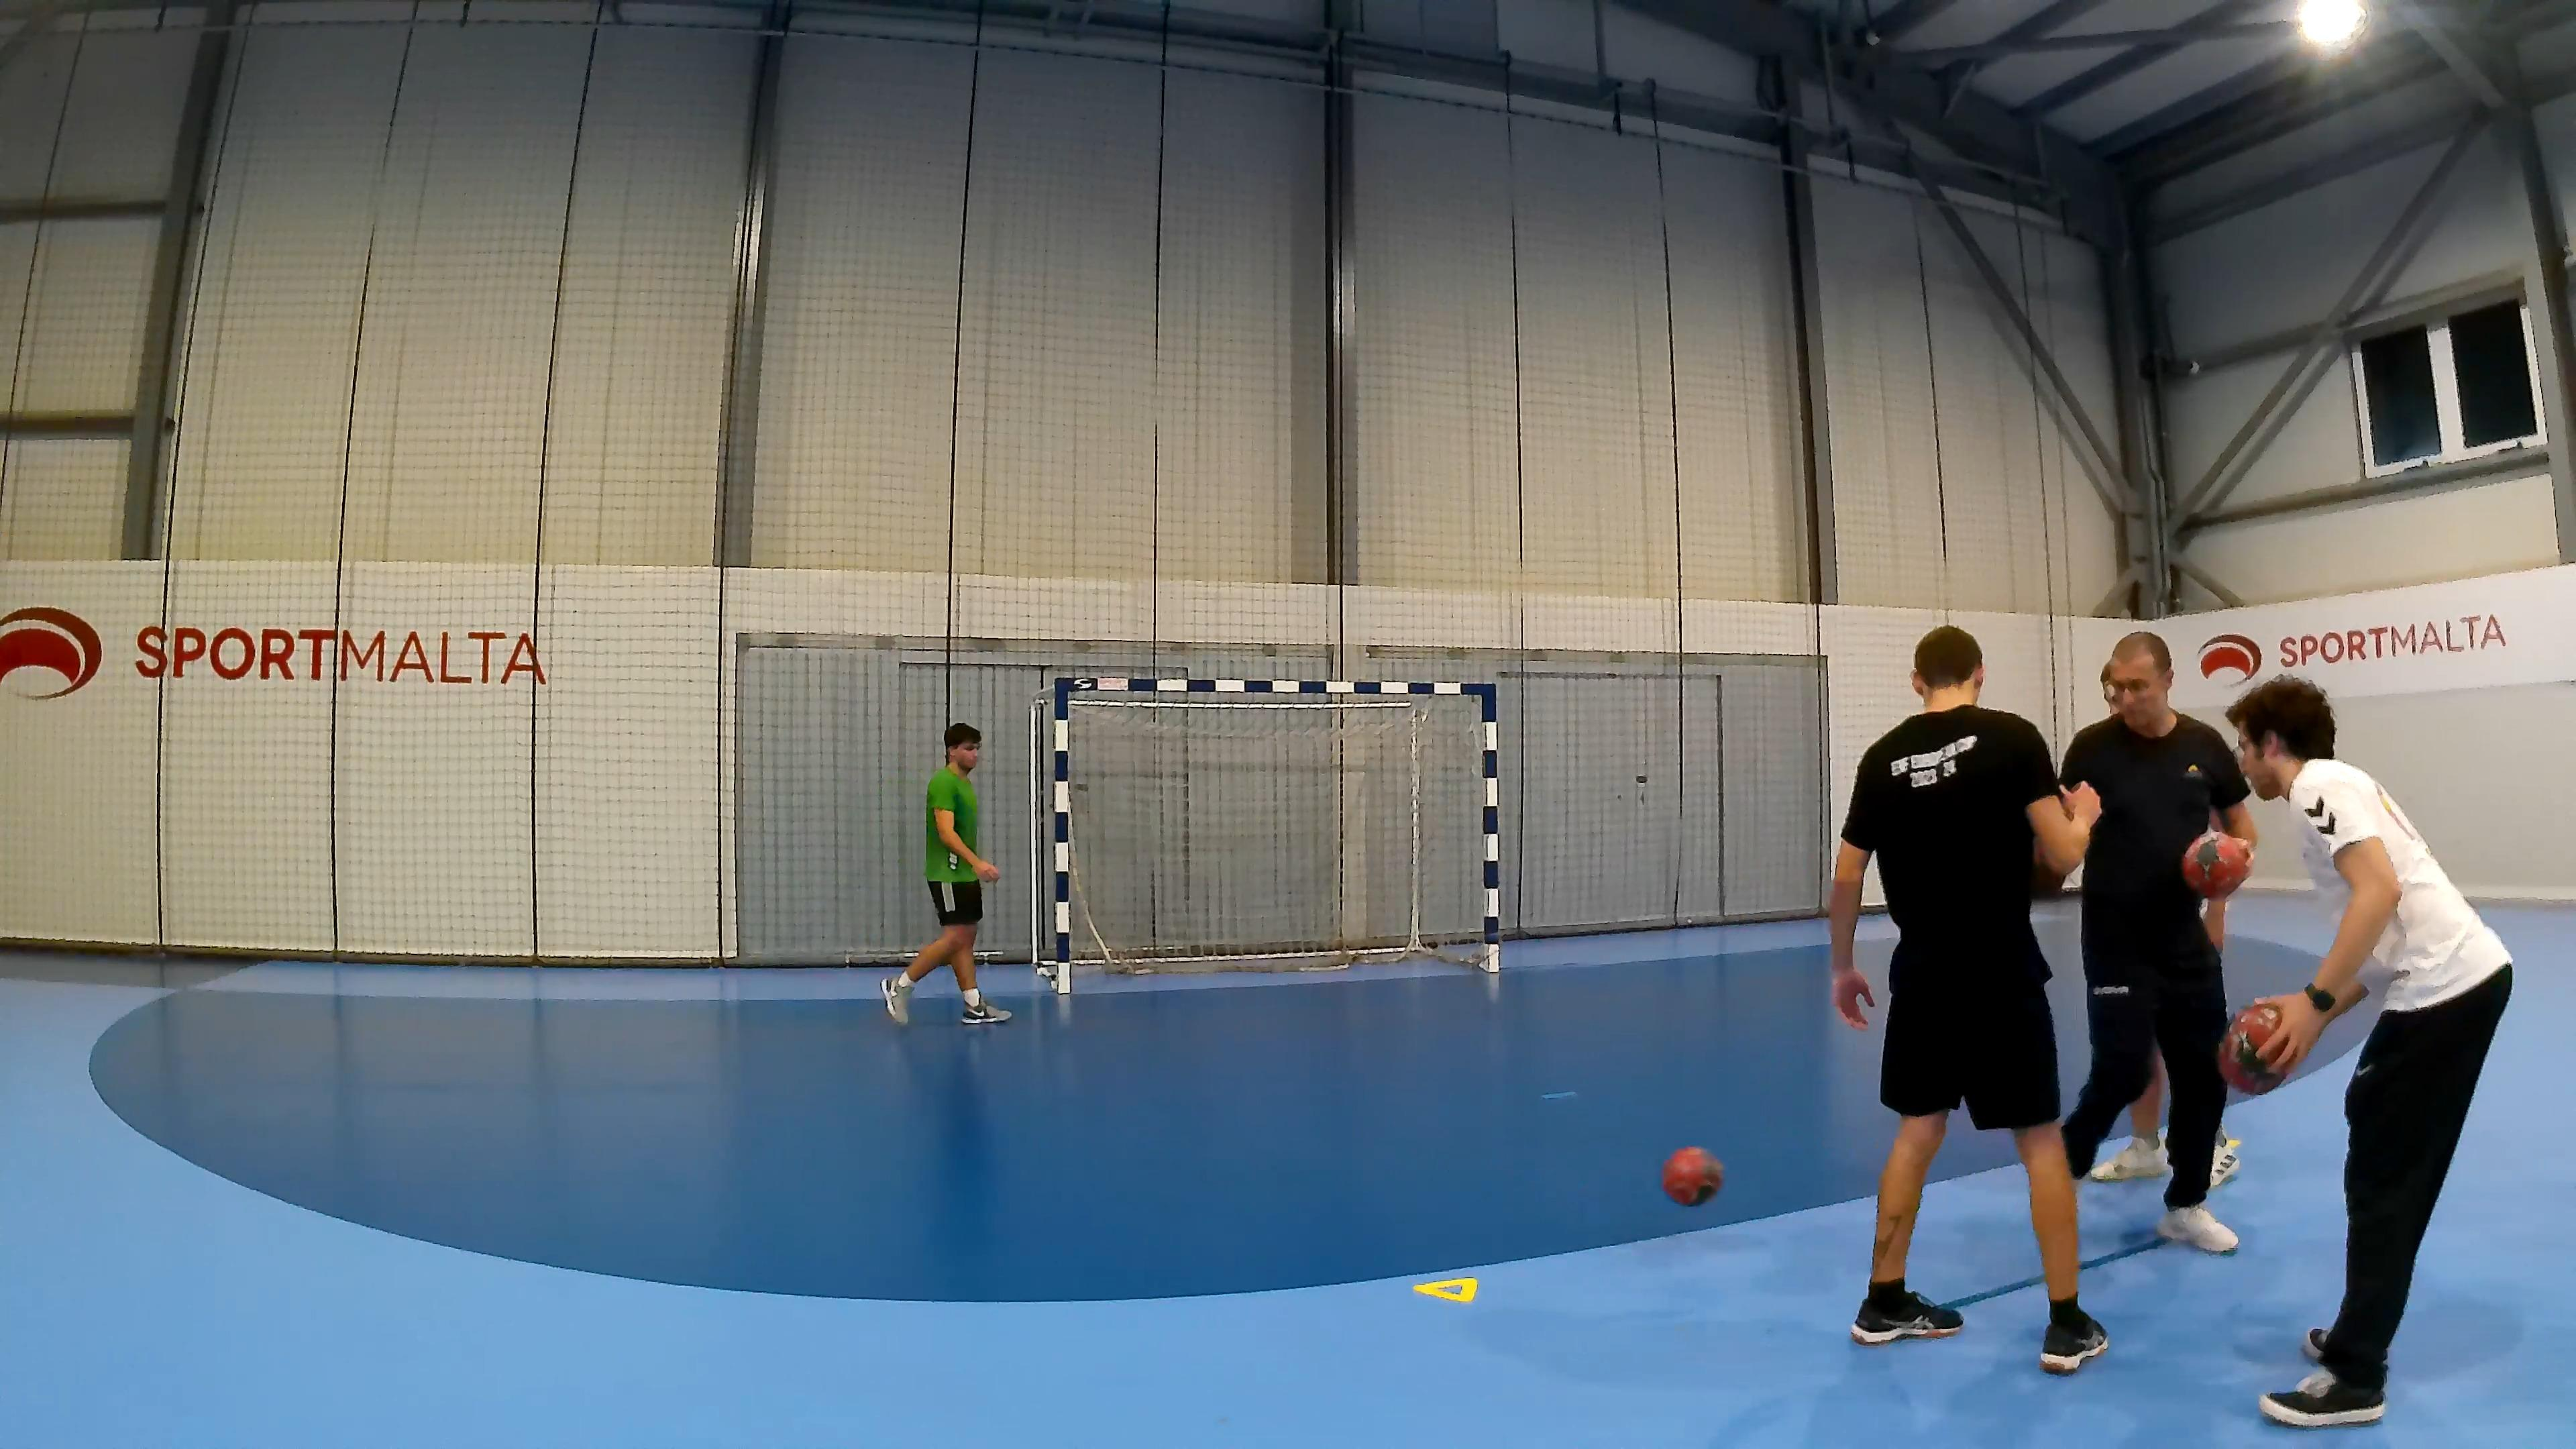handball: (2217, 1001, 2291, 1092), (2181, 830, 2252, 899), (1661, 1145, 1723, 1207)
